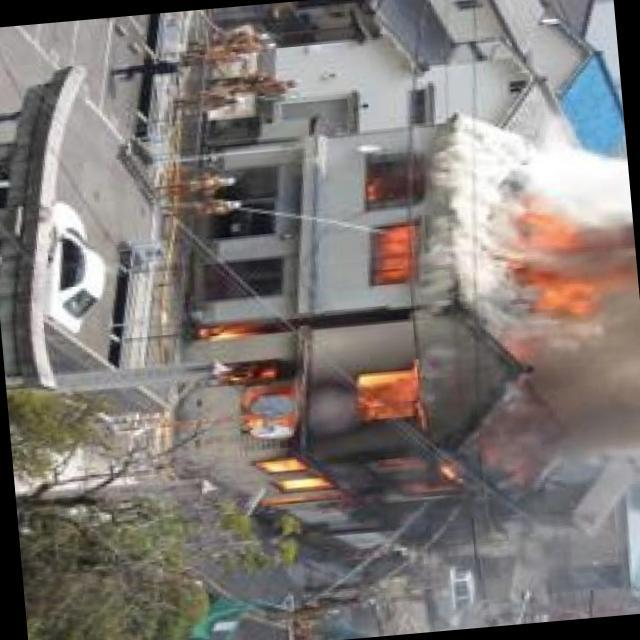Fire: (192, 294, 537, 541), (514, 200, 622, 320), (363, 178, 426, 288)
